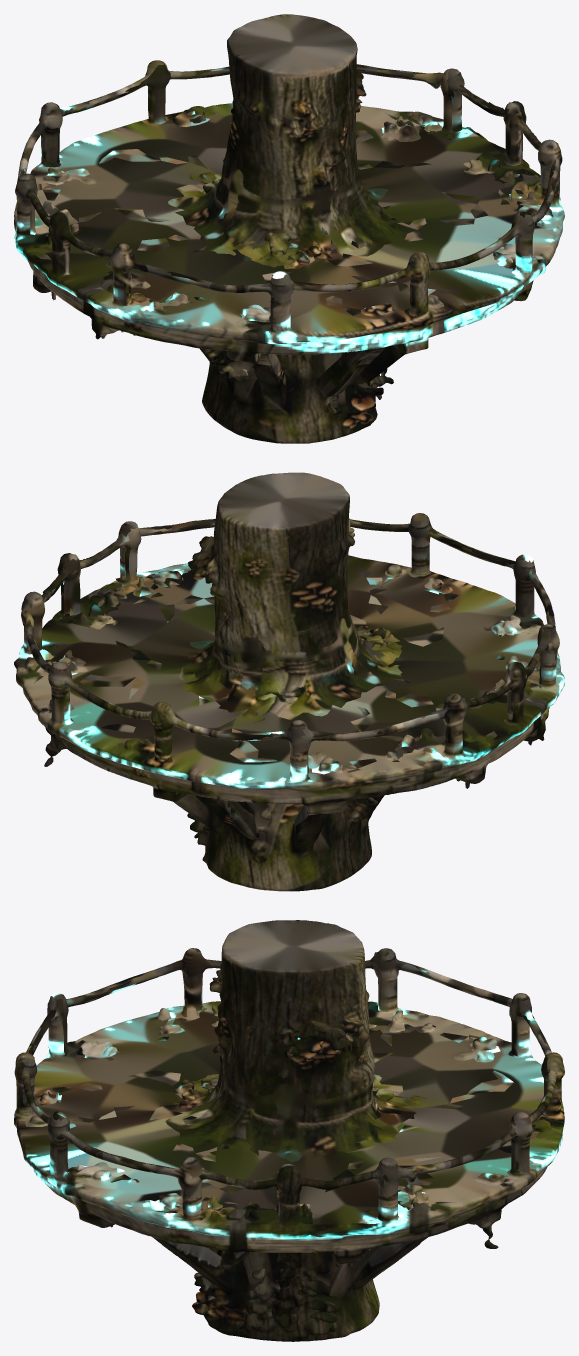
The model's file is struct_central_platform.glb.
The picture shows the model from 3 angles, top to bottom: view 1: azimuth 30°, elevation 25°; view 2: azimuth 150°, elevation 25°; view 3: azimuth 270°, elevation 25°; orthographic projection. The views are drawn at different scales.
Parts seen in each view (by area): view 1: geometry_0; view 2: geometry_0; view 3: geometry_0.
Part boxes in pixels (x1=…): geometry_0: x1=14, y1=14, x2=564, y2=443; geometry_0: x1=14, y1=472, x2=564, y2=891; geometry_0: x1=14, y1=920, x2=564, y2=1341.
Bounding box in the file's own units: 16.51 × 12 × 16.44.
1 material, 1 textured.
